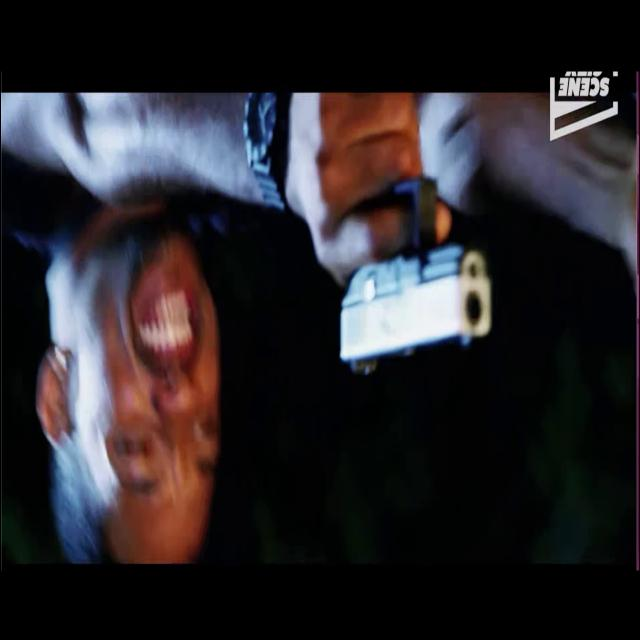weapons: (328, 148, 501, 384)
